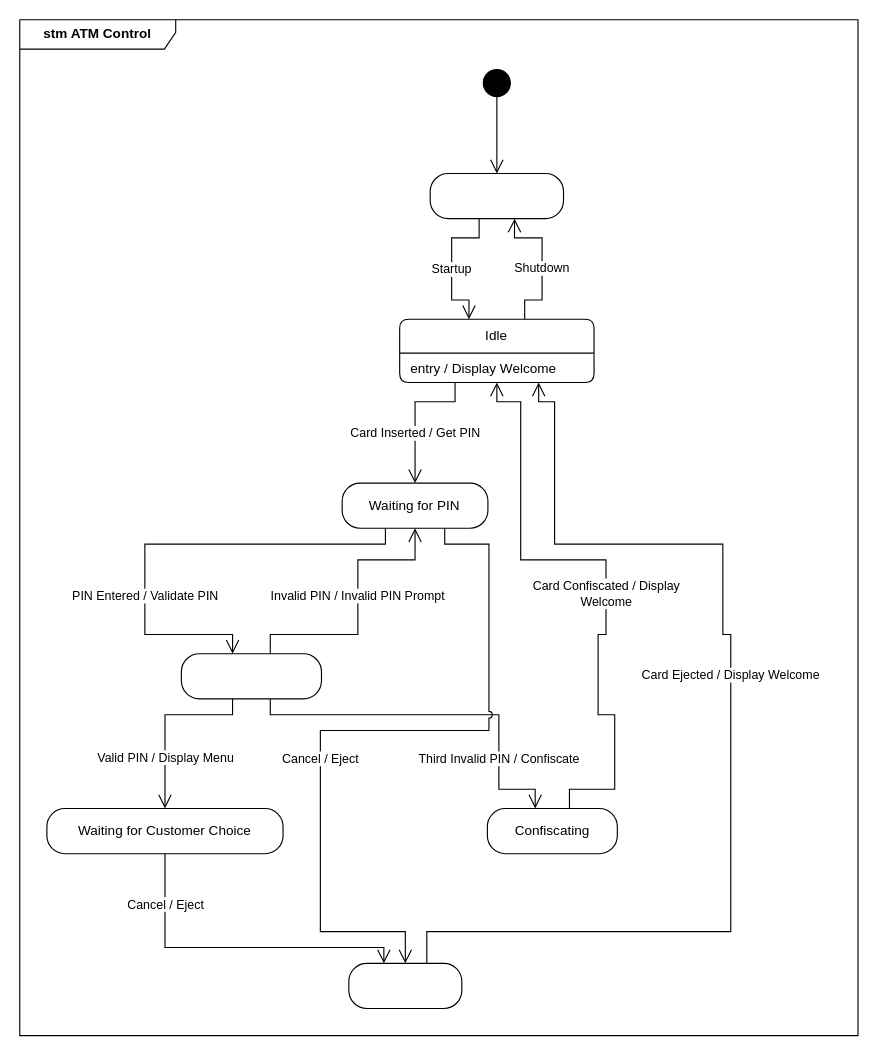
This 878x1055 diagram has some shape labels left out. Each missing label, with the centre of its shape:
"Closed Down" belongs at [496,195].
"Ejecting" belongs at [405,985].
"Validating PIN" belongs at [250,676].
